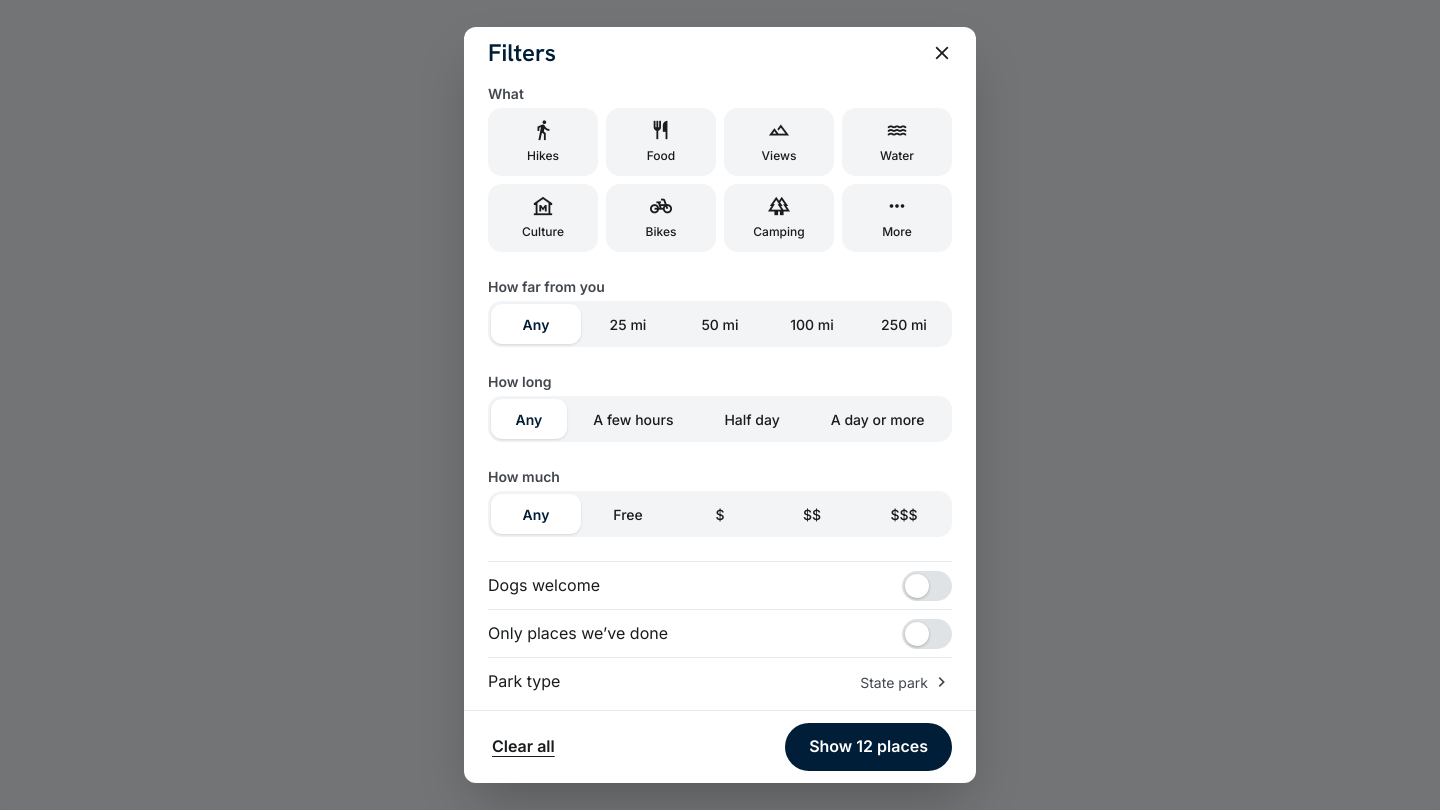
Test case: FilterSheet › picks a park type from its own list, then goes back to the filters
Step 1. Click the button "Park type State park" → x=524, y=681, box [488,658,952,706]
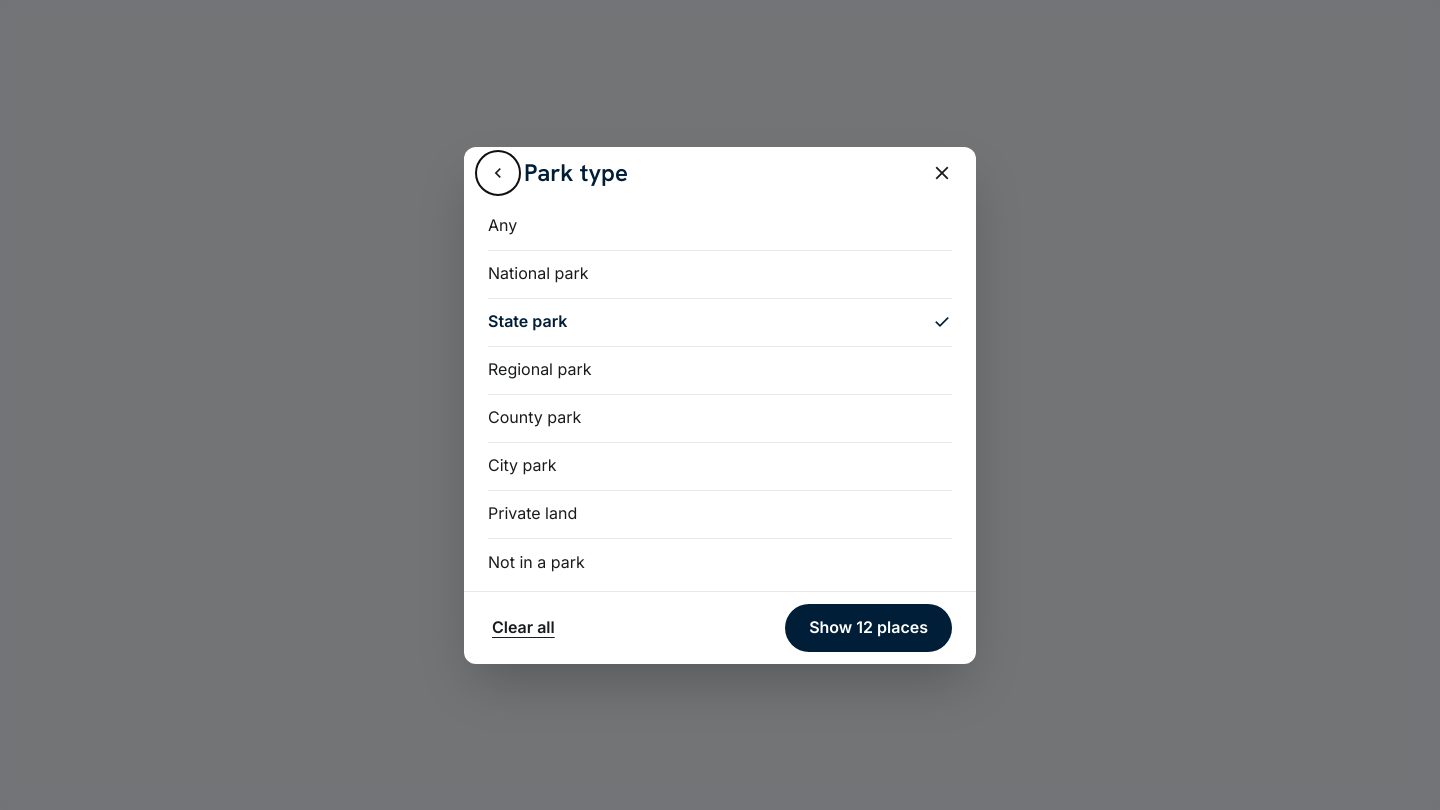
Expected: the dialog "Park type" is shown, [464,146,976,664]
Step 2. Click the button "Regional park" → x=540, y=369, box [488,346,952,394]
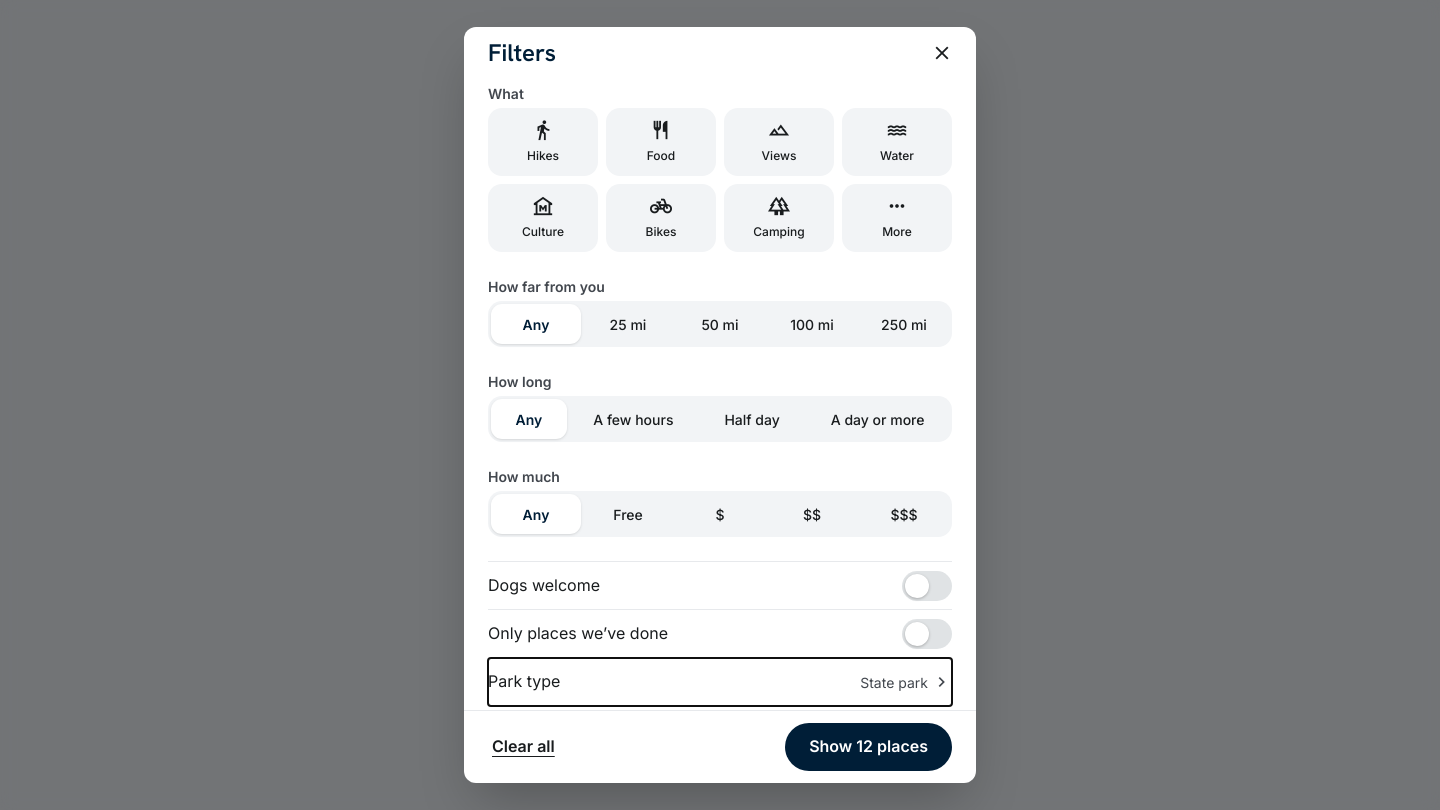
Result: the dialog "Filters" is shown at [464,27,976,783]
